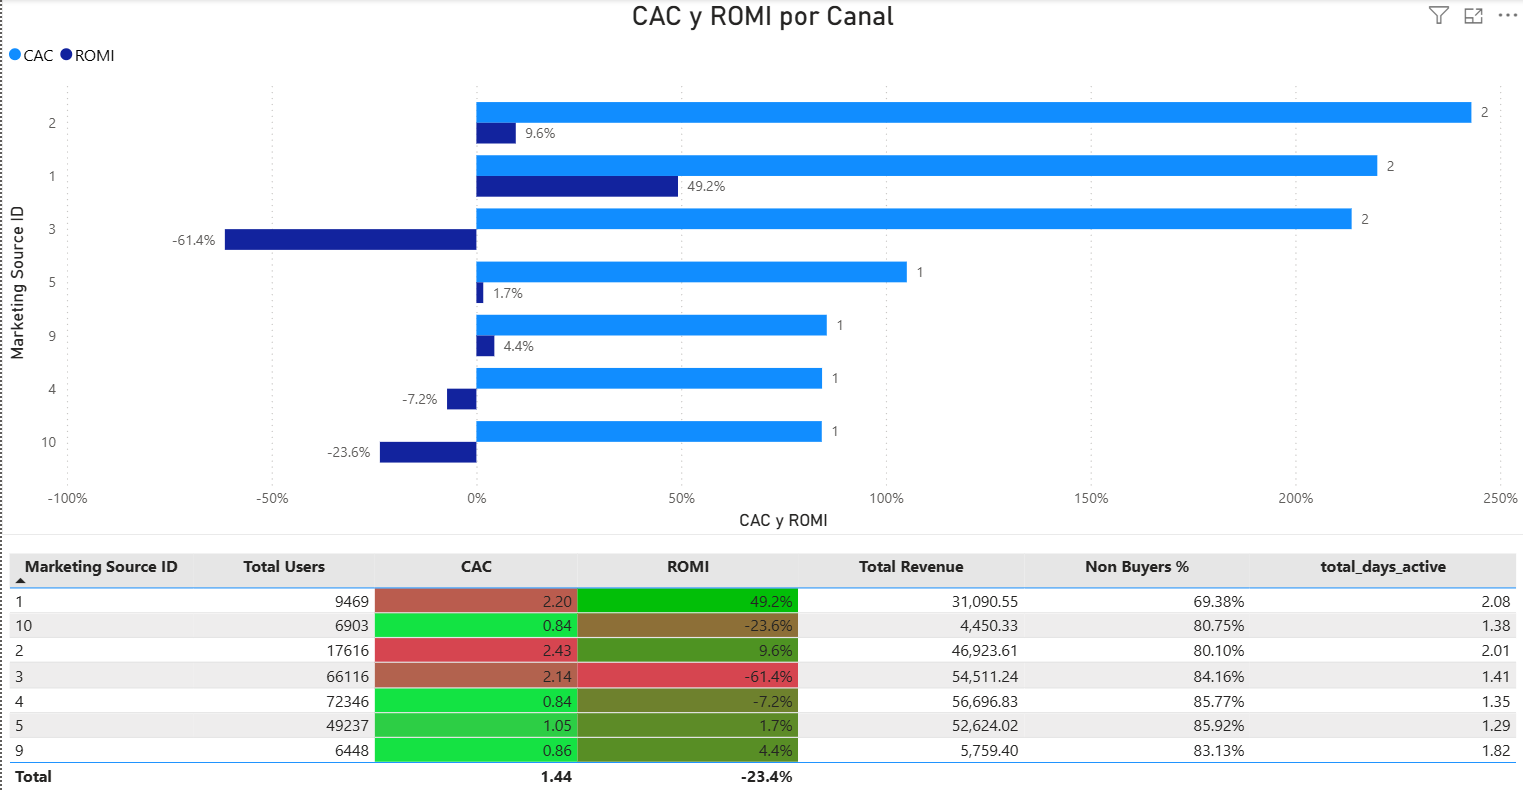

What the dashboard file says about the page in this screenshot:
{"tool":"powerbi","page":{"name":"Página 2","canvas":[1280,720],"ordinal":1},"visuals":[{"type":"clusteredBarChart","title":"CAC y ROMI por Canal","fields":{"Y":["marketing_analysis_powerbi.CAC_dynamic","marketing_analysis_powerbi.ROMI_Dynamic"],"Category":["marketing_analysis_powerbi.marketing_source_id"]},"box":[0,0,1280.3,451.5],"z":0},{"type":"tableEx","fields":{"Values":["marketing_analysis_powerbi.marketing_source_id","marketing_analysis_powerbi.total_users","marketing_analysis_powerbi.CAC_dynamic","marketing_analysis_powerbi.ROMI_Dynamic","marketing_analysis_powerbi.total_revenue","marketing_analysis_powerbi.pct_no_buyer","marketing_analysis_powerbi.total_days_active"]},"box":[0,461.1,1280.3,215.4],"z":1000}]}

Visuals, with their boxes on the page's 1280x720 design canvas (x1, y1, x2, y2). These are canvas units, not pixel positions in the 1523x791 screenshot, which may show the page scaled, cropped or inside an application window:
"CAC y ROMI por Canal" clusteredBarChart: x1=0, y1=0, x2=1280, y2=452
tableEx - marketing_analysis_powerbi.marketing_source_id x marketing_analysis_powerbi.total_users: x1=0, y1=461, x2=1280, y2=676
